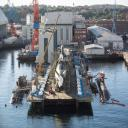submarine: (2, 68, 20, 107), (55, 42, 69, 91), (97, 70, 115, 105)
